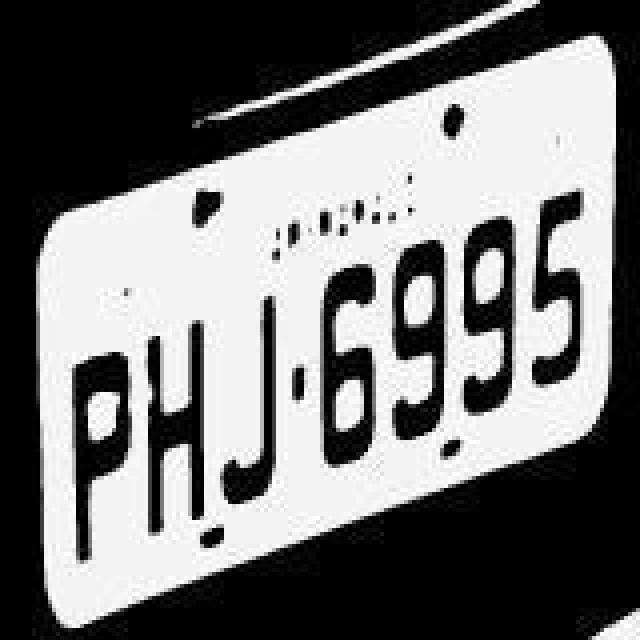5: (522, 180, 590, 396)
6: (316, 244, 388, 476)
9: (452, 200, 524, 416), (386, 224, 454, 440)
H: (144, 314, 216, 534)
J: (220, 282, 292, 510)
P: (62, 350, 138, 562)
